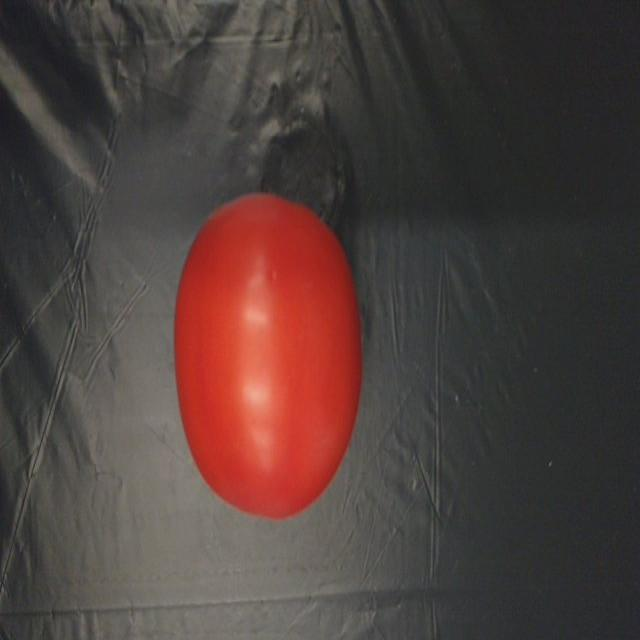kirmizi: (160, 184, 369, 526)
